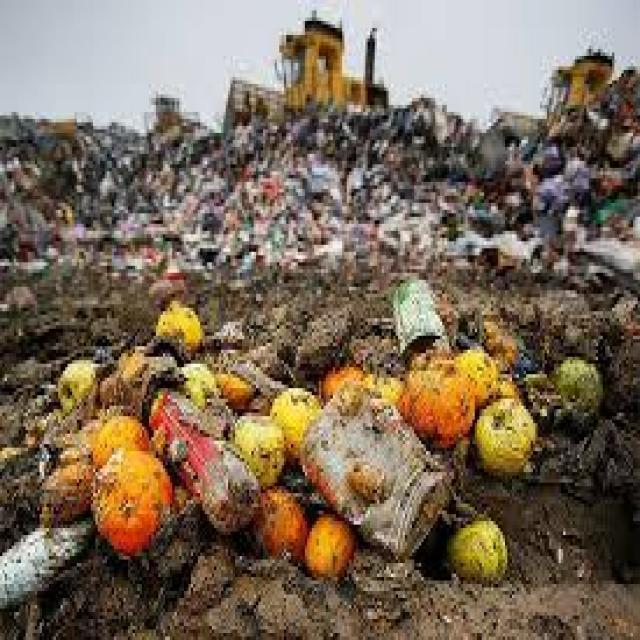Wet: (0, 258, 640, 640), (0, 98, 640, 276)
